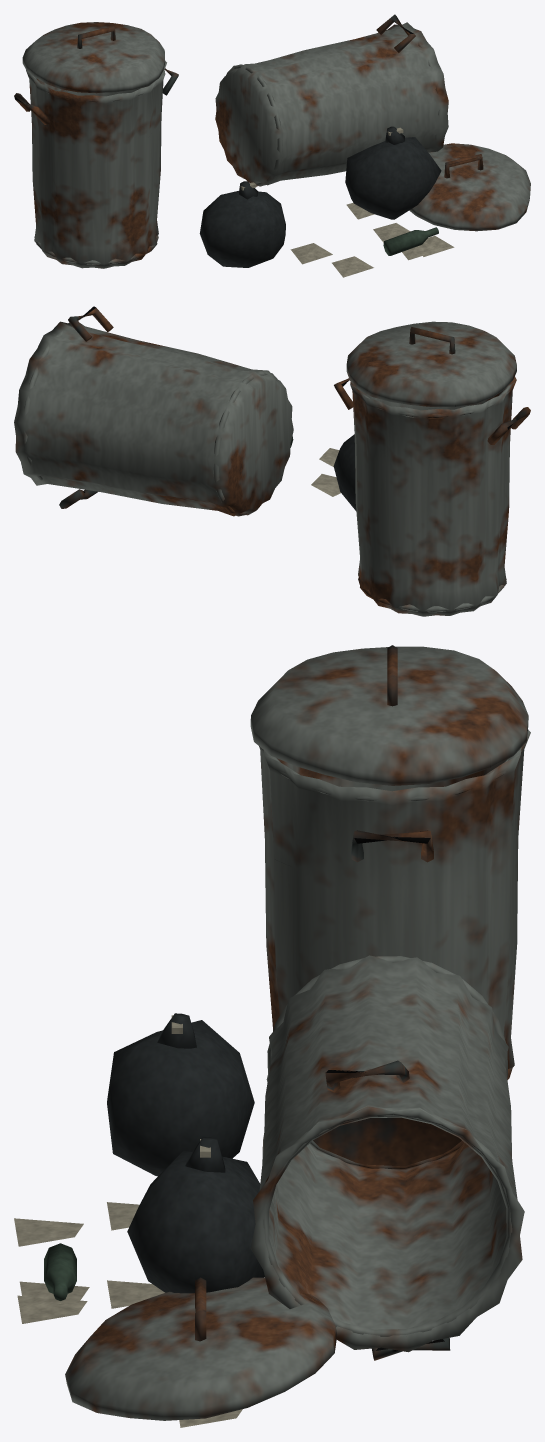
Rendered from trash_bins.glb.
3 views of the same model, one above another, from view 1: azimuth 30°, elevation 25°; view 2: azimuth 150°, elevation 25°; view 3: azimuth 270°, elevation 25° (orthographic). The views are drawn at different scales.
Visible parts, largest first — view 1: trash_bins; view 2: trash_bins; view 3: trash_bins.
Part boxes in pixels (<box>): trash_bins: <box>14,14,530,277</box>; trash_bins: <box>14,306,530,616</box>; trash_bins: <box>14,645,530,1427</box>.
Bounding box in the file's own units: 2.18 × 0.9922 × 1.11.
1 material, 1 textured.
